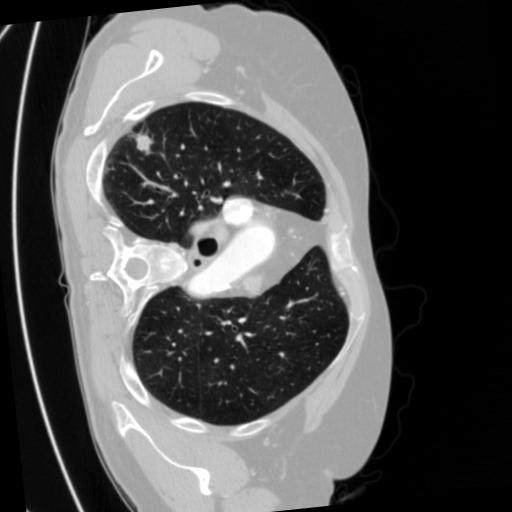nodule: (133, 129, 158, 154)
